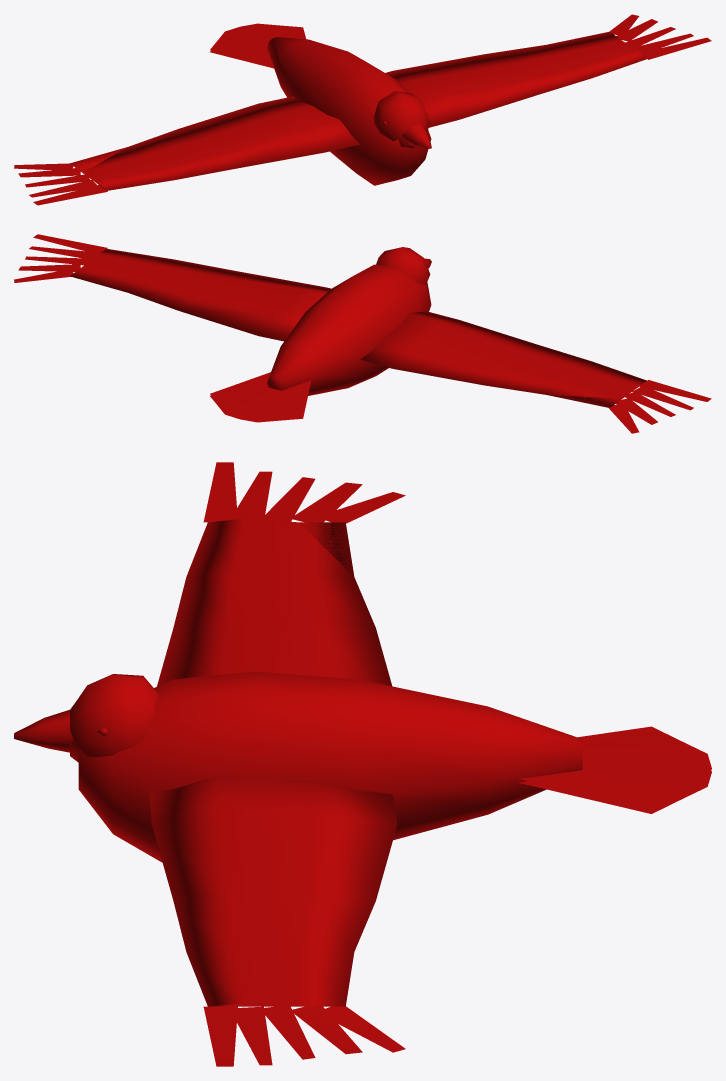
Rendered from raven.glb.
The picture shows the model from 3 angles, top to bottom: view 1: azimuth 30°, elevation 25°; view 2: azimuth 150°, elevation 25°; view 3: azimuth 270°, elevation 25°; orthographic projection. The views are drawn at different scales.
Parts seen in each view (by area): view 1: wing, body; view 2: wing, body; view 3: wing, body.
Boxes of the visible parts, bbox=[...] form: wing: bbox=[14, 14, 711, 205]; body: bbox=[210, 23, 431, 185]; wing: bbox=[14, 234, 711, 433]; body: bbox=[210, 247, 431, 422]; wing: bbox=[149, 462, 405, 1066]; body: bbox=[14, 671, 711, 862].
Size of the model in its own units: 1.3 by 0.1836 by 0.6328.
